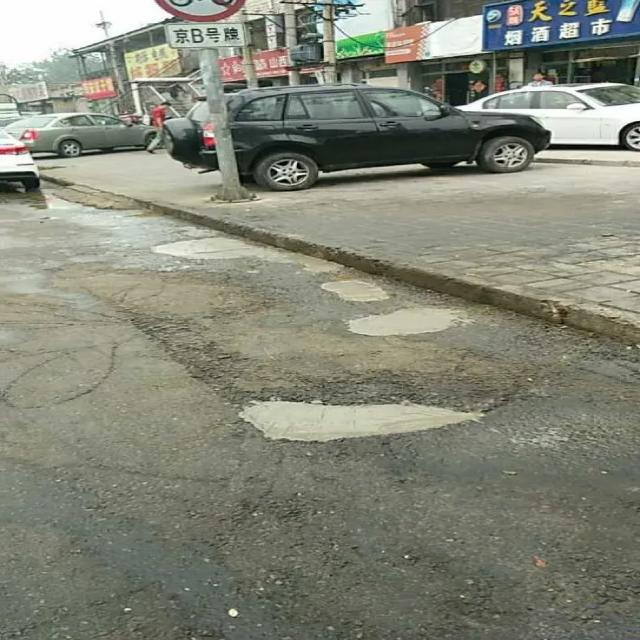Pothole: (222, 398, 499, 446), (140, 236, 347, 276), (339, 305, 468, 334), (317, 279, 395, 302)
